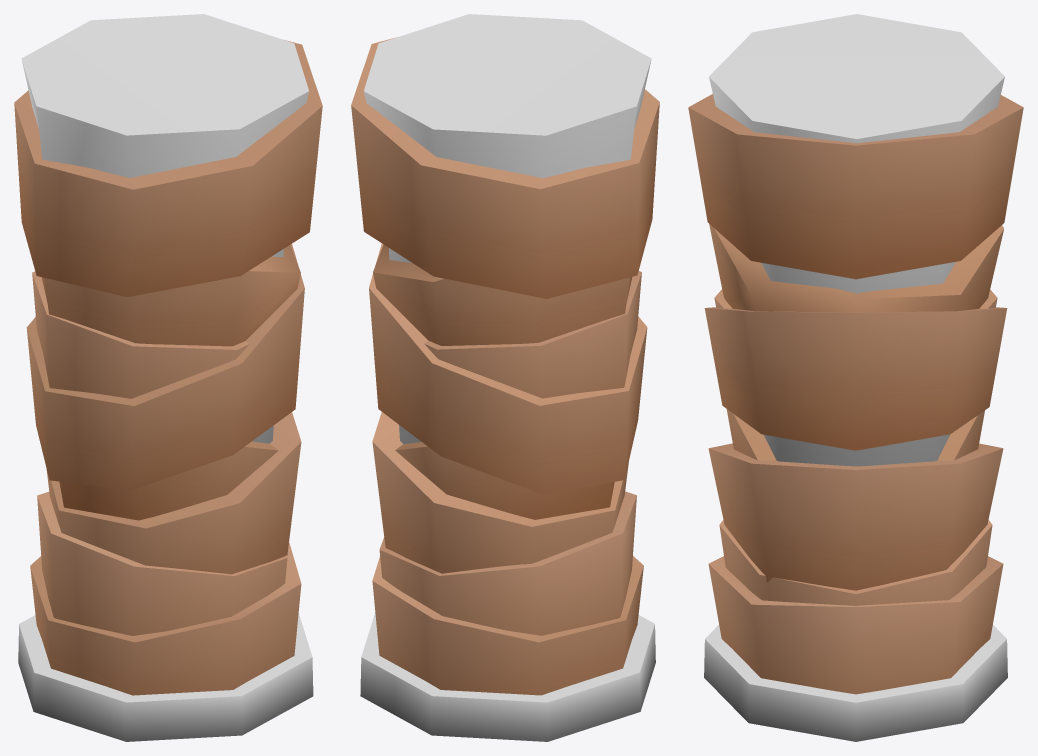
File: stone_grip_064.glb
3 views of the same model, side by side, from view 1: azimuth 30°, elevation 25°; view 2: azimuth 150°, elevation 25°; view 3: azimuth 270°, elevation 25° (orthographic).
Parts seen in each view (by area): view 1: stone_grip.064; view 2: stone_grip.064; view 3: stone_grip.064.
Boxes of the visible parts, x1,y1,x2,y2 form: stone_grip.064: (14, 14, 322, 741); stone_grip.064: (351, 14, 659, 741); stone_grip.064: (688, 14, 1023, 741).
Bounding box in the file's own units: 1.52 × 3.26 × 1.65.
1 material, 1 textured.
